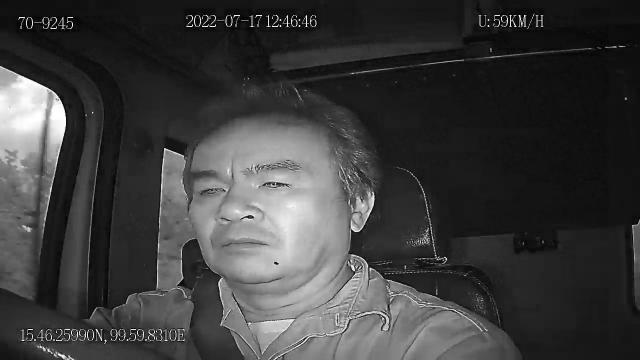SafeDriving: (251, 168, 301, 196), (190, 172, 231, 202)
Seatbelt: (186, 274, 248, 360)
